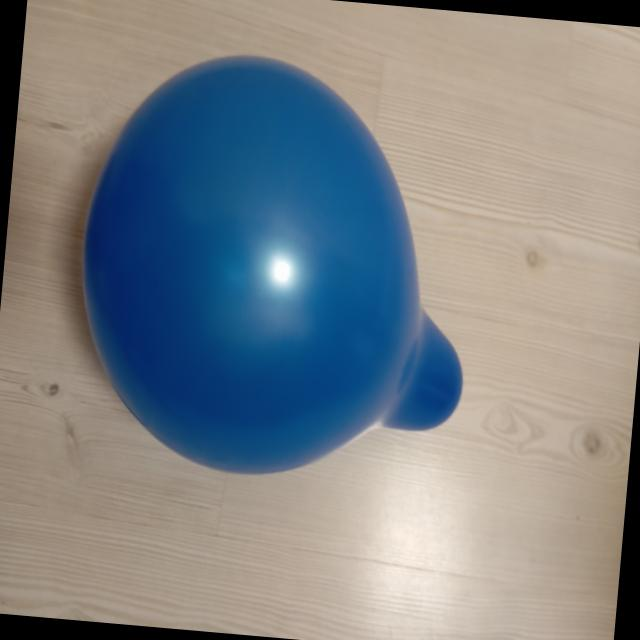balloon: (82, 56, 462, 473)
